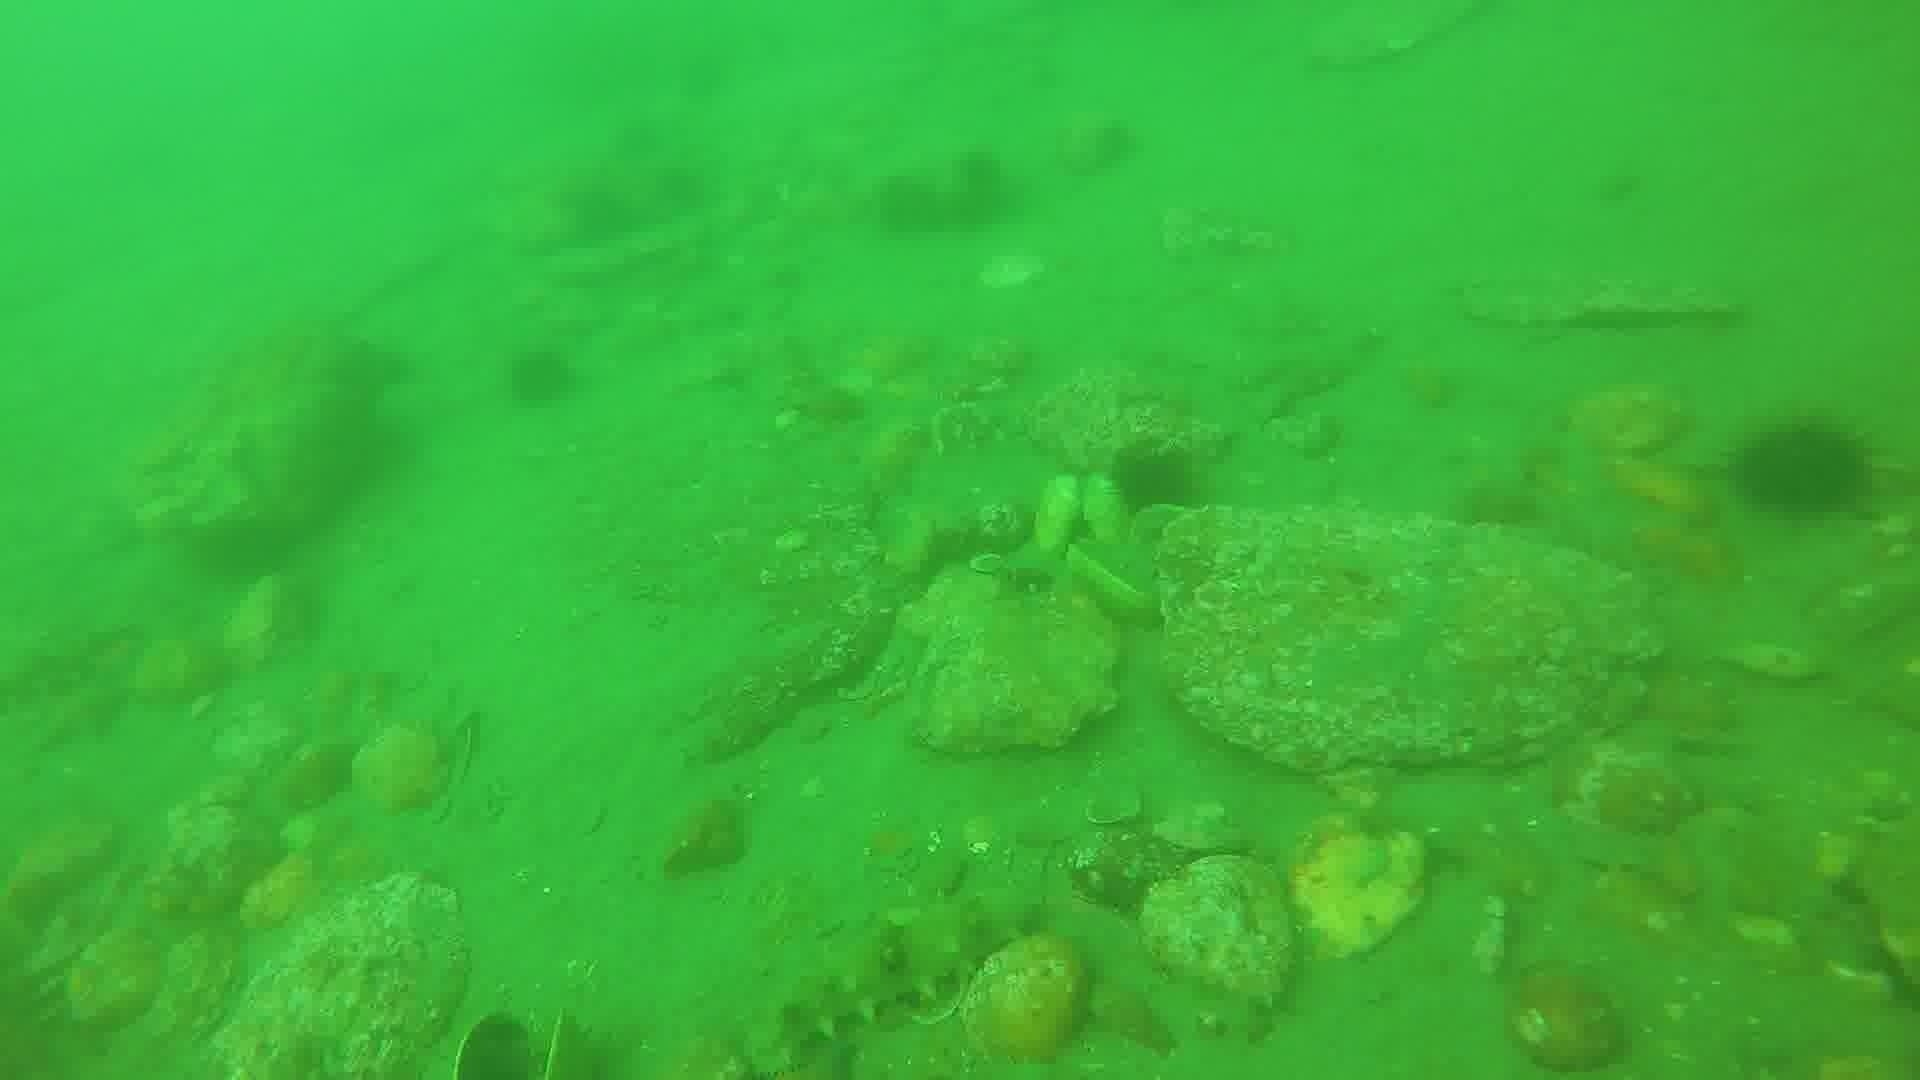echinus: (1730, 411, 1878, 525), (1105, 439, 1204, 522), (502, 343, 580, 411)
holothurian: (749, 880, 1044, 1062)
